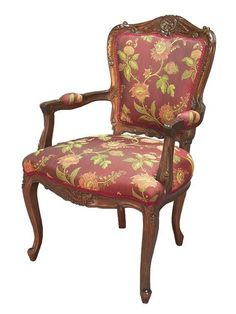Carving Chair: (31, 30, 203, 274)
